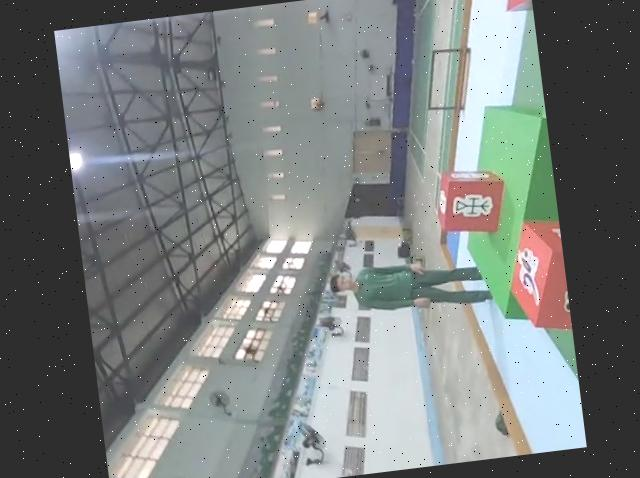R1: (499, 213, 572, 337)
R2 Real: (428, 162, 511, 242)
